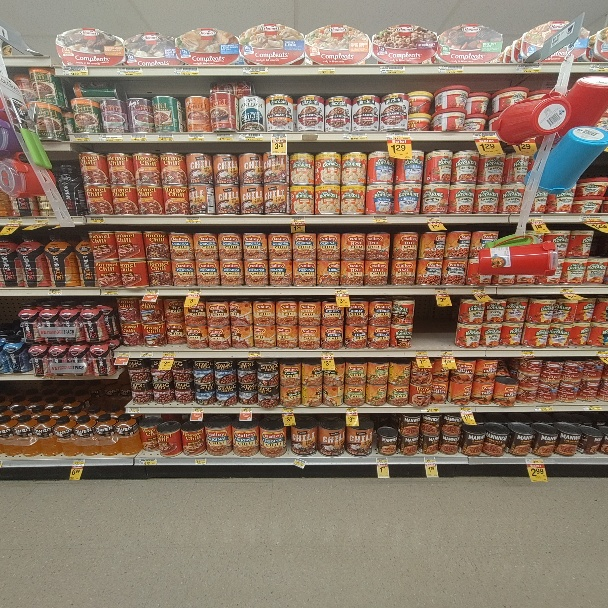All PRICE TAGS: (516, 63, 542, 73), (116, 67, 143, 75), (62, 67, 88, 75), (243, 66, 269, 74), (174, 67, 199, 75), (437, 65, 464, 72), (379, 66, 405, 73), (578, 215, 603, 222), (589, 63, 608, 72), (525, 456, 544, 464), (386, 133, 410, 139), (241, 133, 261, 140), (474, 133, 497, 139), (5, 217, 22, 225), (137, 458, 156, 465), (317, 67, 336, 74), (582, 405, 603, 411), (345, 133, 366, 139), (302, 133, 317, 141), (100, 134, 120, 140), (33, 217, 50, 224), (71, 134, 90, 140), (291, 216, 305, 224), (130, 134, 148, 140), (559, 287, 574, 294), (186, 216, 201, 223), (47, 289, 64, 295), (157, 134, 174, 140), (187, 134, 204, 140), (88, 217, 105, 223), (534, 406, 554, 411), (520, 350, 534, 357), (271, 134, 287, 140), (423, 456, 436, 463), (346, 406, 359, 413), (72, 459, 85, 466), (373, 216, 386, 223), (529, 215, 544, 221), (115, 351, 130, 357), (102, 289, 119, 294), (239, 407, 253, 413), (126, 407, 140, 413), (439, 350, 453, 356), (248, 351, 262, 357), (141, 351, 155, 357), (596, 349, 608, 356), (335, 288, 349, 294), (434, 288, 448, 294), (375, 457, 388, 463), (294, 457, 307, 463), (425, 406, 438, 412), (282, 407, 295, 413), (191, 407, 204, 413), (321, 352, 334, 358), (162, 351, 175, 357), (427, 216, 442, 221), (194, 458, 206, 464), (460, 406, 472, 412), (416, 350, 430, 355), (145, 289, 159, 294), (188, 289, 201, 294), (474, 289, 487, 294)
